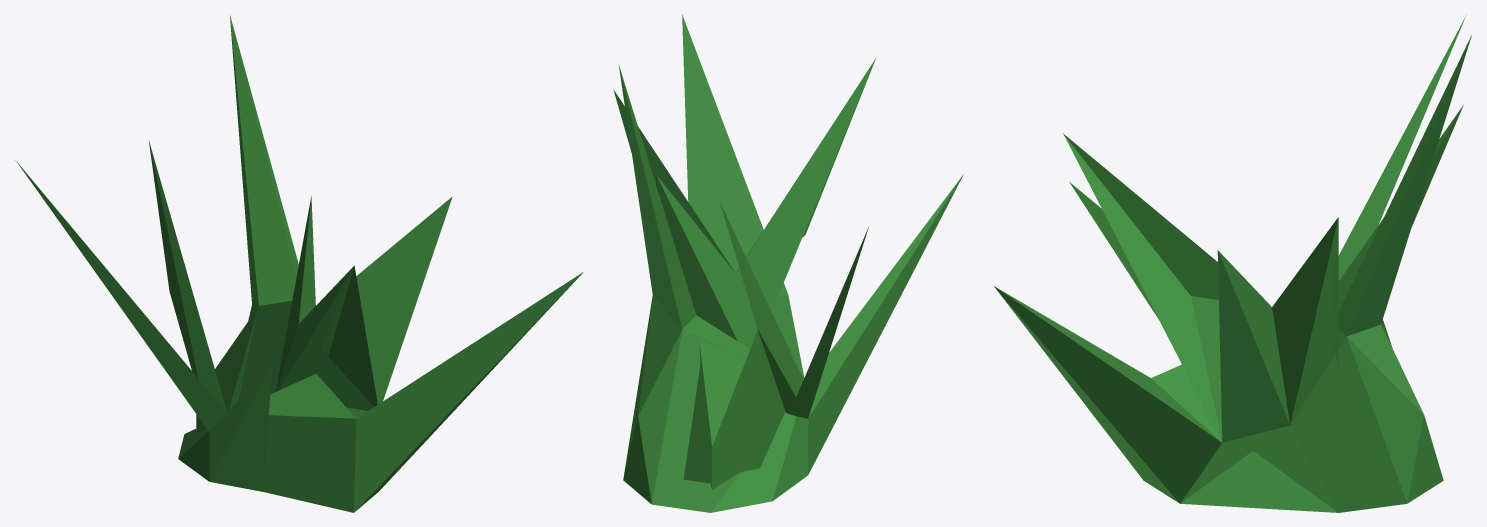
File: sage_brush.obj
3 renders of one model, left to right at view 1: azimuth 30°, elevation 25°; view 2: azimuth 150°, elevation 25°; view 3: azimuth 270°, elevation 25°, orthographic. The views are drawn at different scales.
Parts seen in each view (by area): view 1: pPipe1; view 2: pPipe1; view 3: pPipe1.
Part boxes in pixels (bbox=[...]): pPipe1: bbox=[15, 15, 583, 512]; pPipe1: bbox=[613, 14, 963, 512]; pPipe1: bbox=[994, 15, 1471, 512].
Bounding box in the file's own units: 4.91 × 5 × 4.75.
